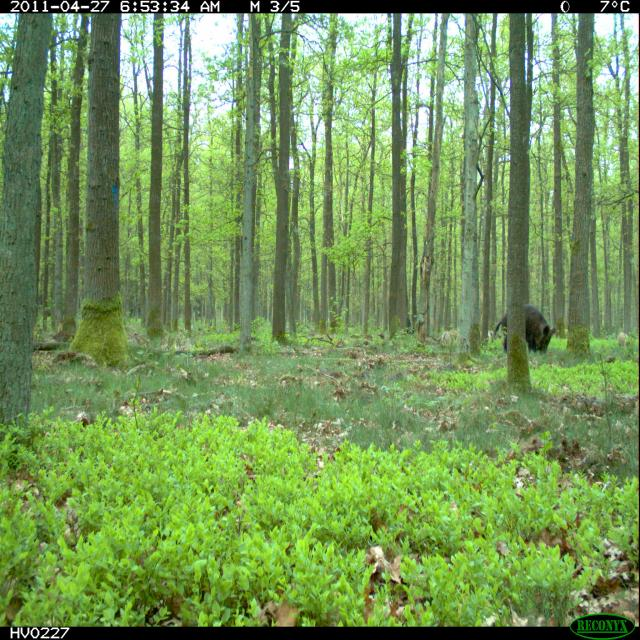boar: (485, 289, 565, 360)
